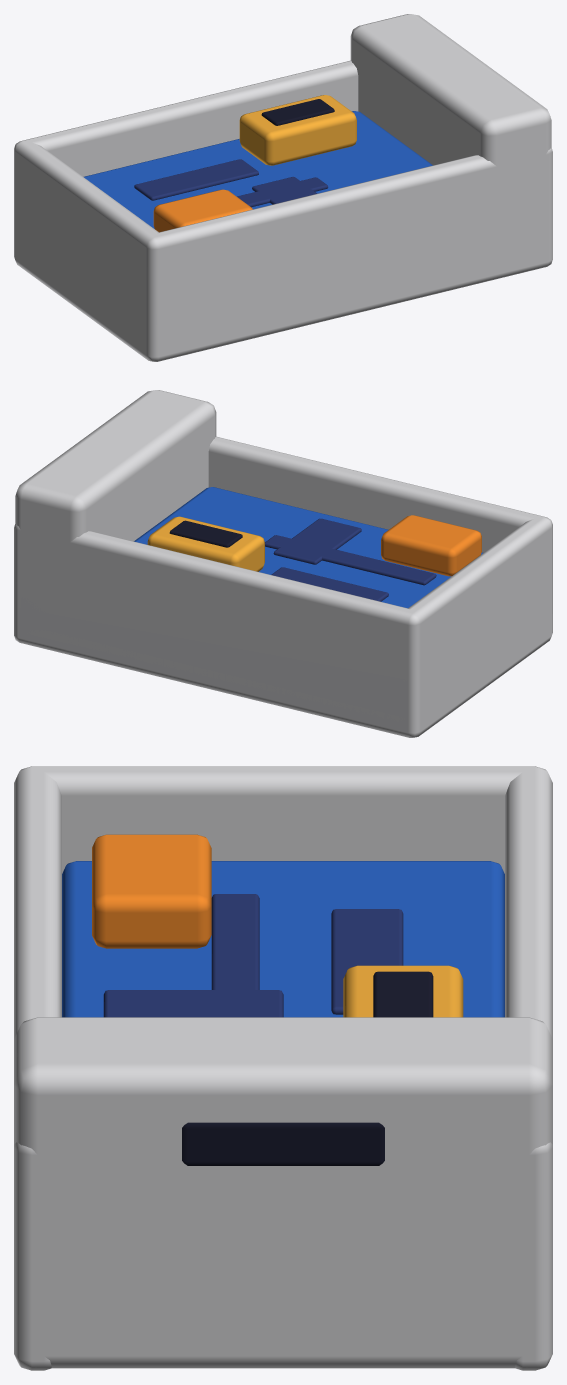
The model's file is prop.props_workrooms.toolbox_tray.glb.
3 views of the same model, one above another, from view 1: azimuth 30°, elevation 25°; view 2: azimuth 150°, elevation 25°; view 3: azimuth 270°, elevation 25° (orthographic). The views are drawn at different scales.
Parts seen in each view (by area): view 1: prop.props_workrooms.toolbox_tray; view 2: prop.props_workrooms.toolbox_tray; view 3: prop.props_workrooms.toolbox_tray.
Part boxes in pixels (x1=…): prop.props_workrooms.toolbox_tray: x1=14, y1=14, x2=552, y2=361; prop.props_workrooms.toolbox_tray: x1=14, y1=390, x2=552, y2=737; prop.props_workrooms.toolbox_tray: x1=14, y1=766, x2=552, y2=1370.
Bounding box in the file's own units: 0.752 × 0.28 × 0.45.
